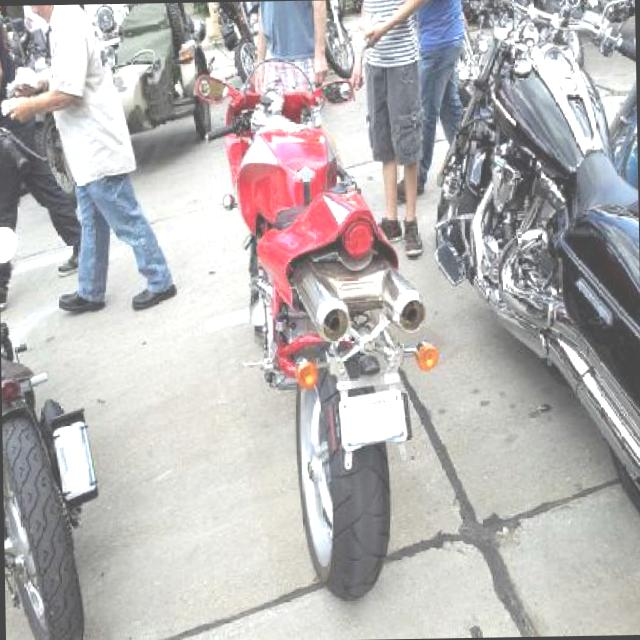Person: (10, 4, 178, 308), (0, 6, 83, 307), (350, 0, 426, 257), (410, 0, 466, 189), (251, 2, 332, 124)
